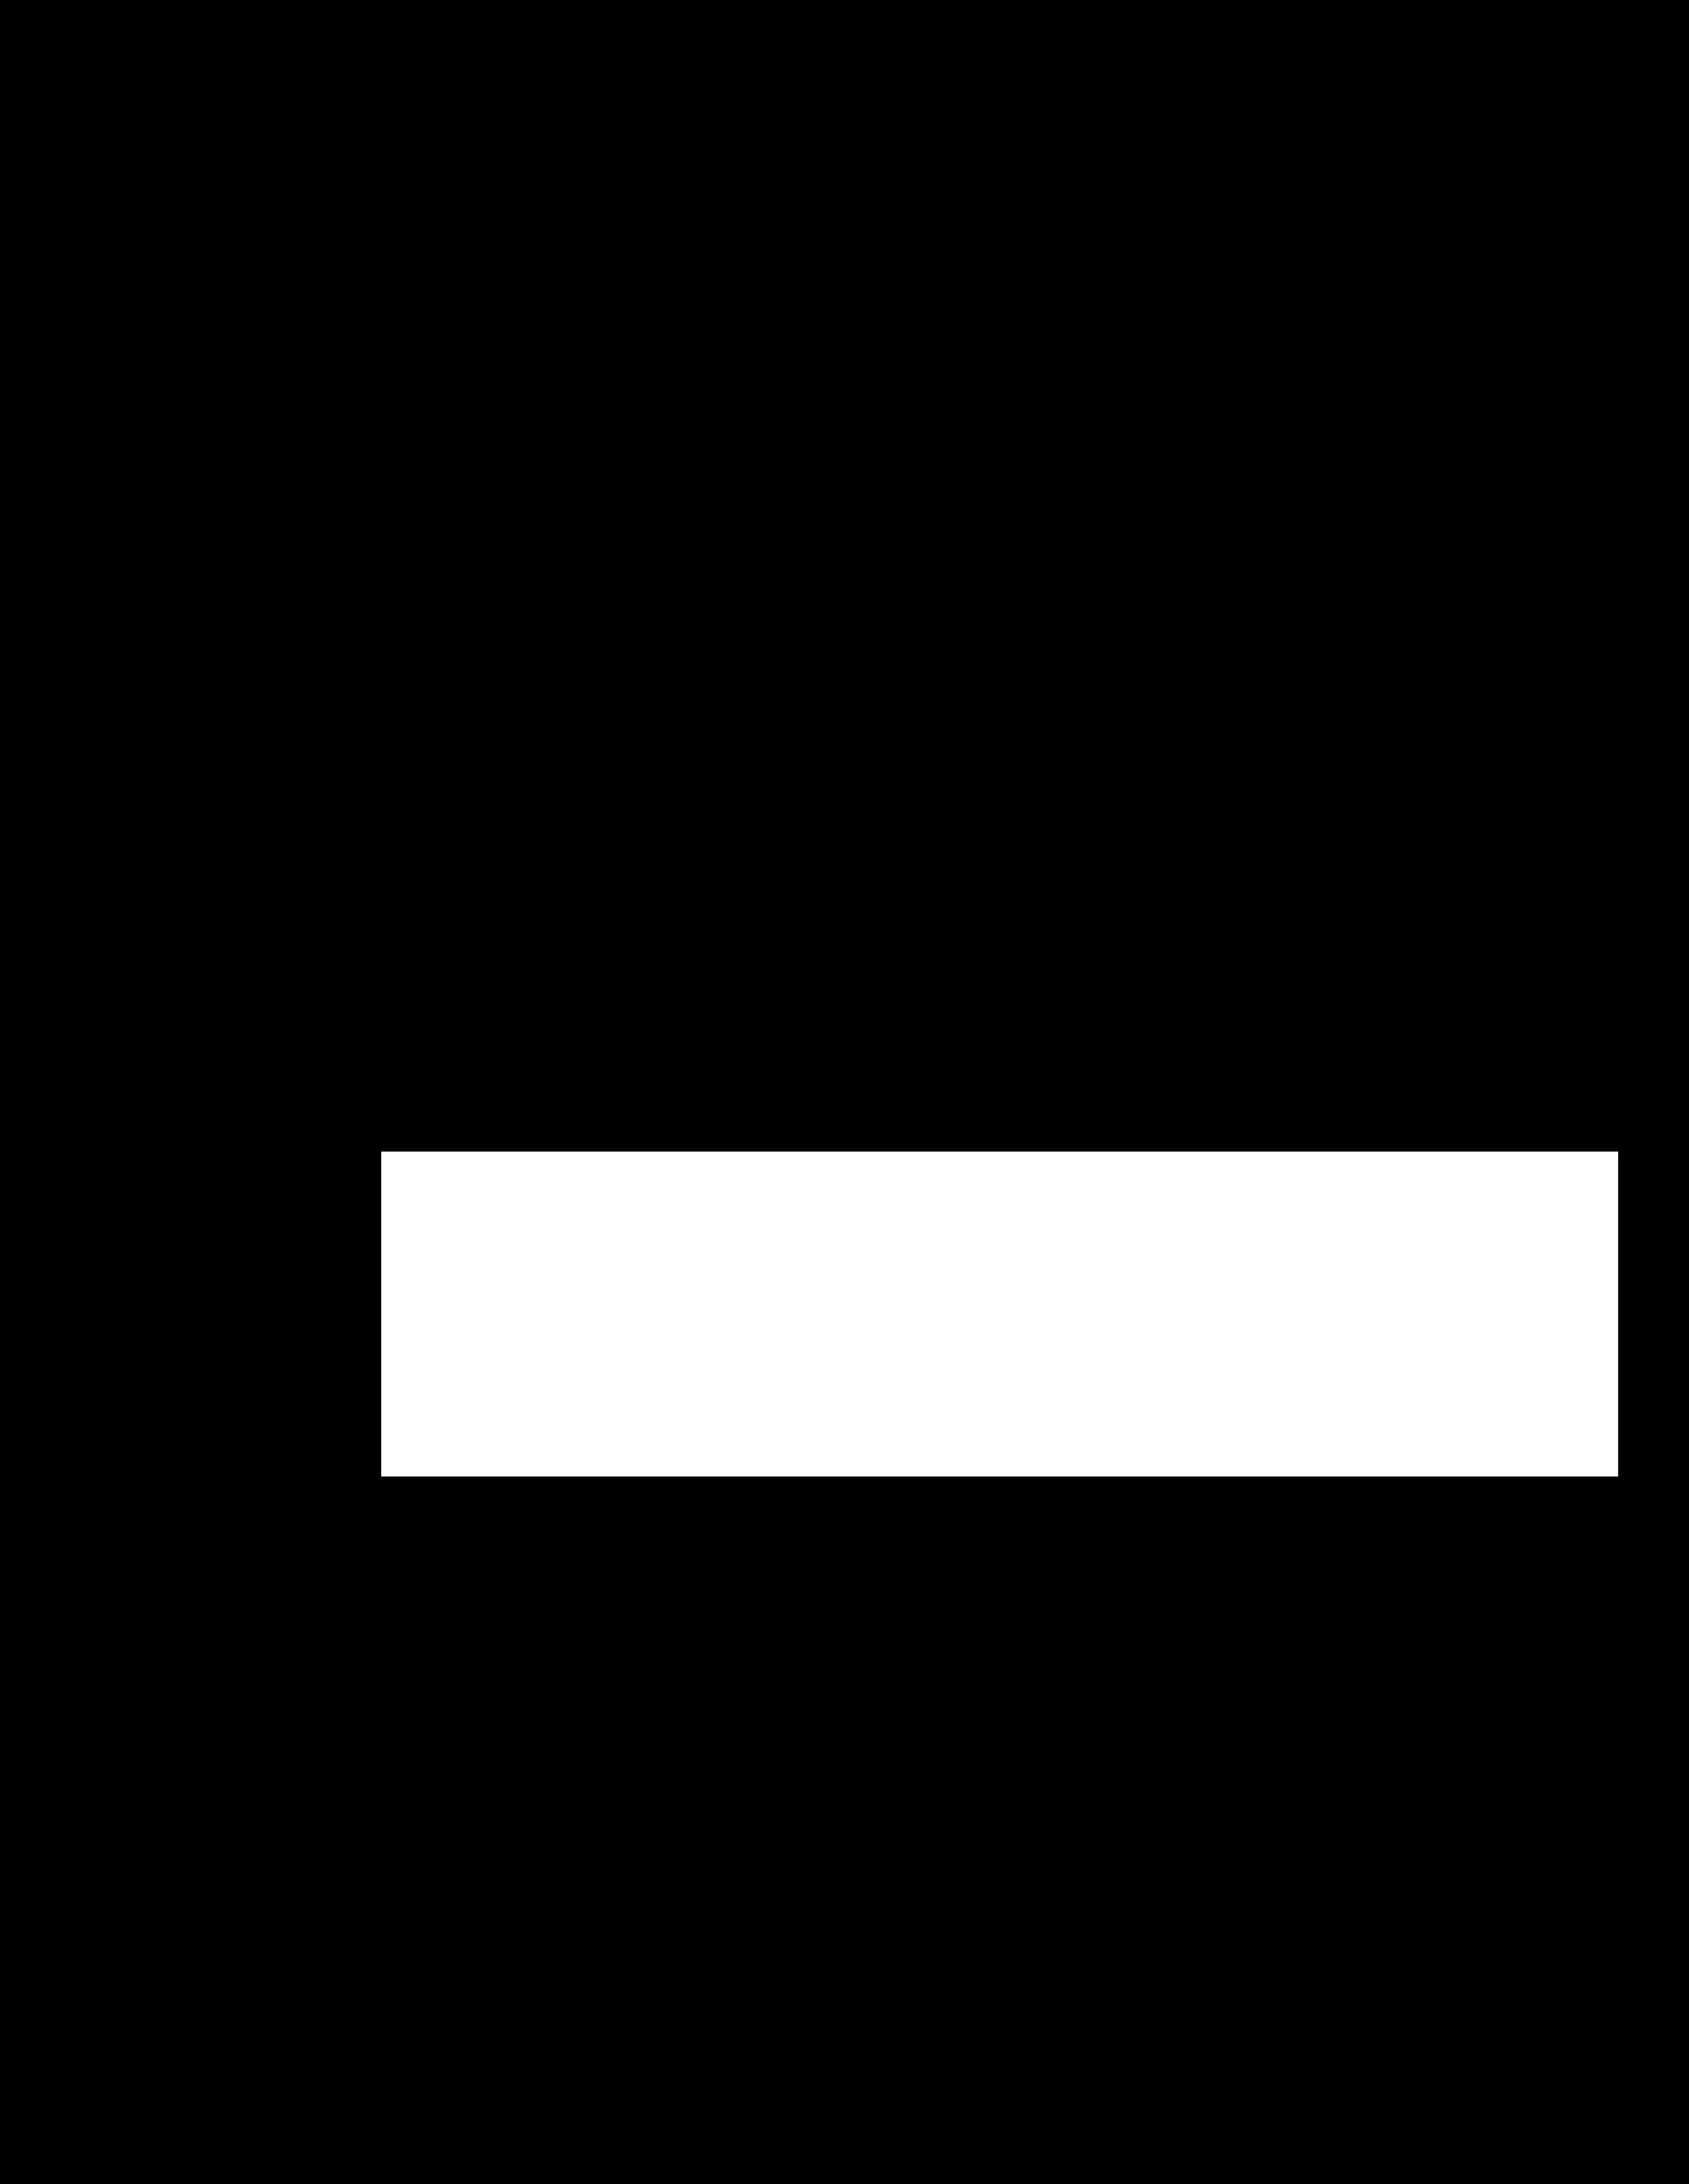table: (381, 1152, 1618, 1477)
